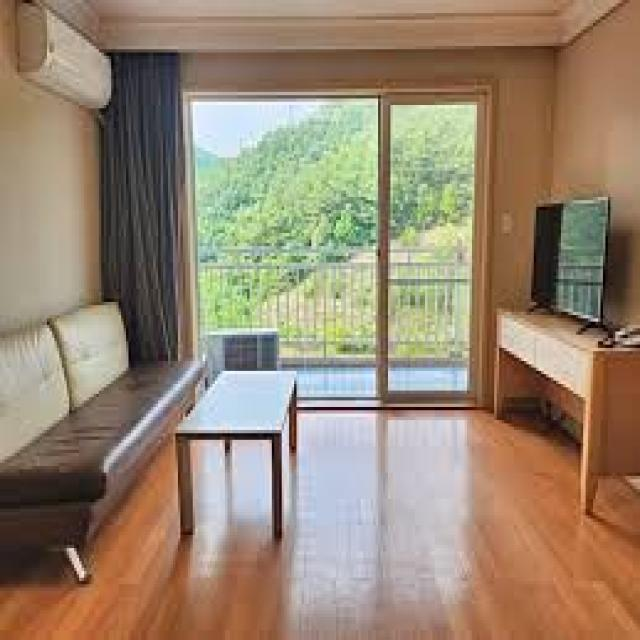Sofa: (2, 297, 206, 589)
Table: (180, 360, 306, 551)
tv: (536, 196, 611, 323)
window: (129, 68, 475, 365)
